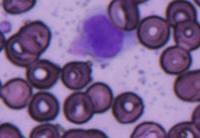L: (68, 6, 138, 61)
